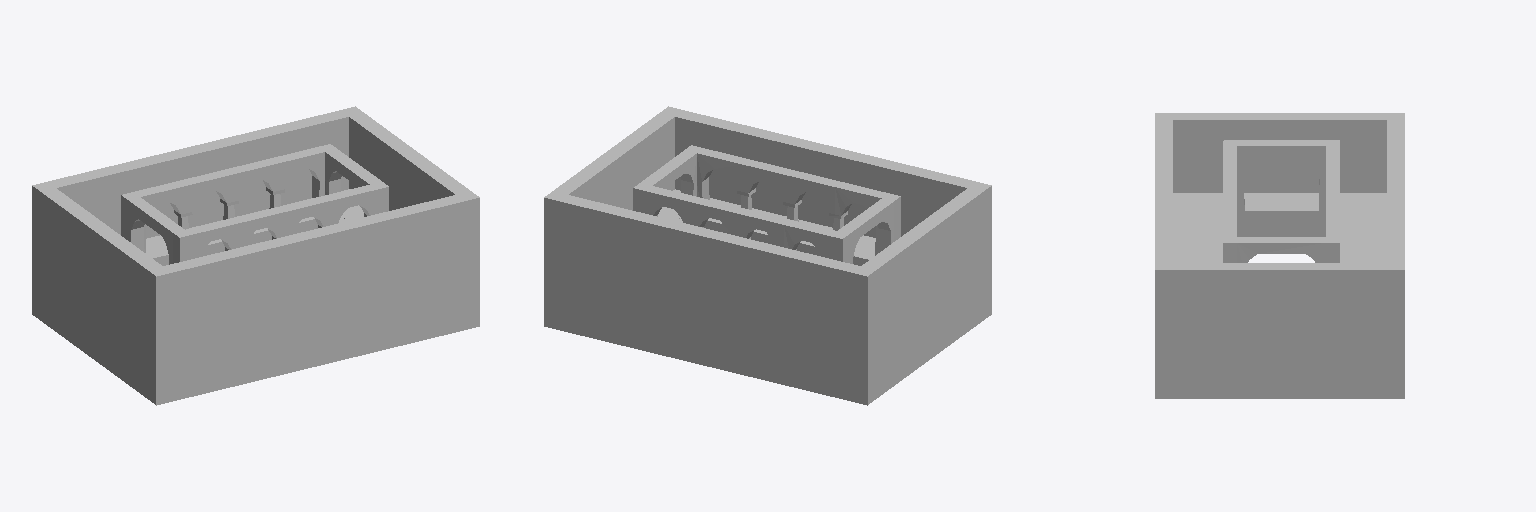
File: sponza_wall.obj
3 views of the same model, side by side, from view 1: azimuth 30°, elevation 25°; view 2: azimuth 150°, elevation 25°; view 3: azimuth 270°, elevation 25° (orthographic).
Parts seen in each view (by area): view 1: Plane; view 2: Plane; view 3: Plane.
Boxes of the visible parts, x1,y1,x2,y2 form: Plane: [32, 106, 479, 405]; Plane: [544, 106, 991, 405]; Plane: [1155, 113, 1404, 398].
Size of the model in its own units: 21 by 8 by 14.